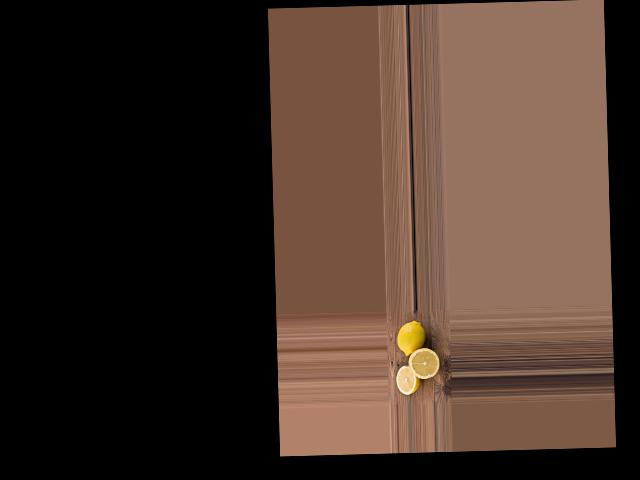lemon: (393, 322, 426, 356)
